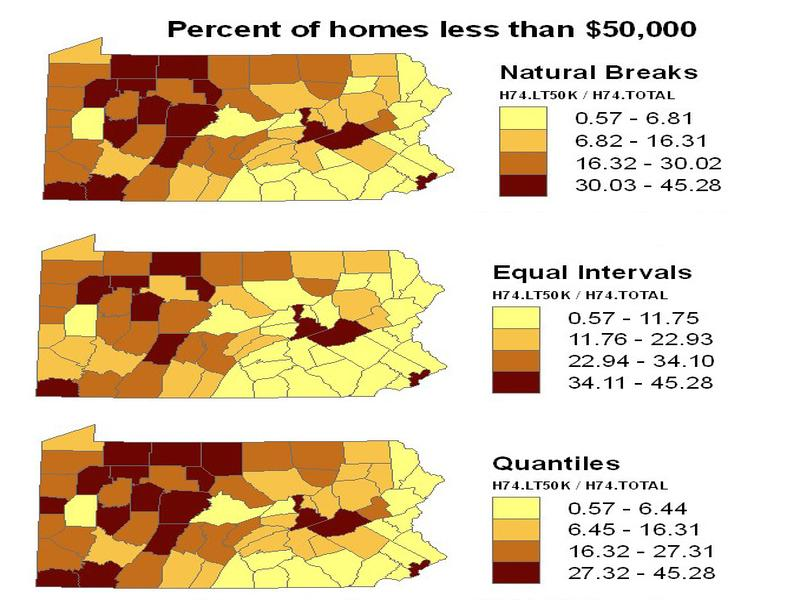legend: (497, 63, 726, 199), (489, 260, 715, 396), (489, 455, 719, 587)
